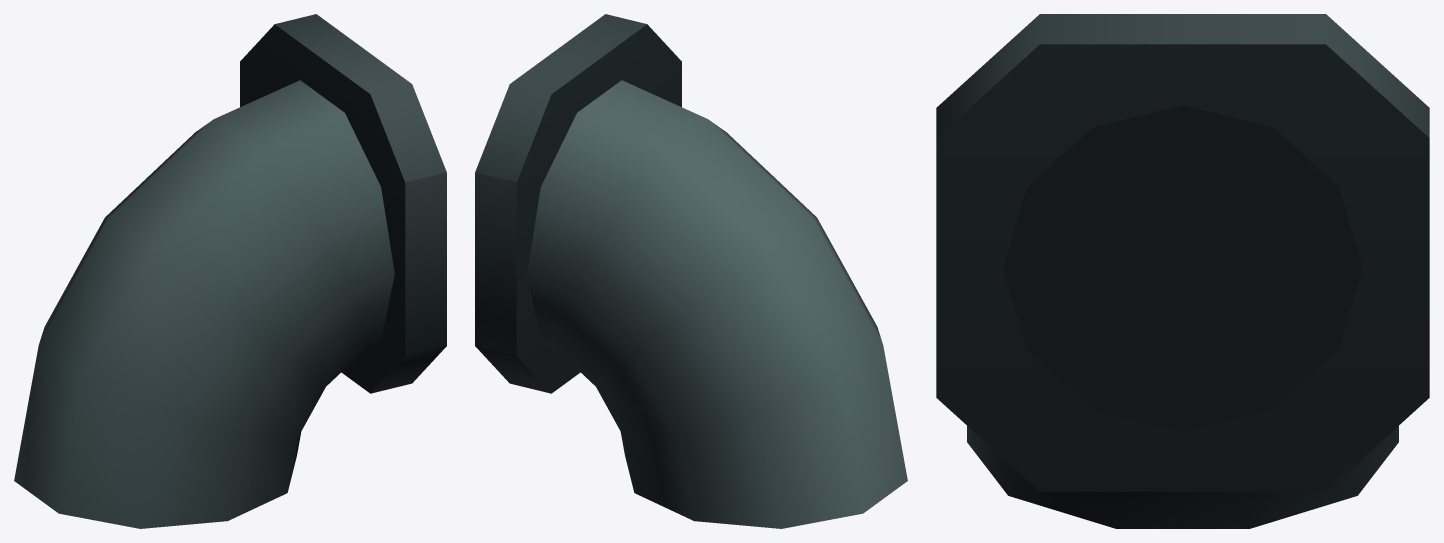
The model's file is Pipe_3B.fbx.
3 views of the same model, side by side, from view 1: azimuth 30°, elevation 25°; view 2: azimuth 150°, elevation 25°; view 3: azimuth 270°, elevation 25° (orthographic). The views are drawn at different scales.
Parts seen in each view (by area): view 1: Pipe_3B; view 2: Pipe_3B; view 3: Pipe_3B.
Part boxes in pixels (<box>): Pipe_3B: <box>14,14,446,528</box>; Pipe_3B: <box>475,14,907,528</box>; Pipe_3B: <box>936,14,1429,528</box>.
Size of the model in its own units: 157 by 169 by 137.
